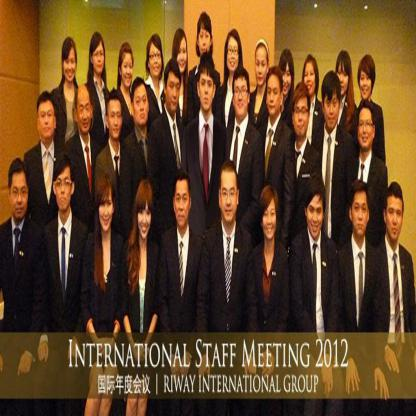face: (222, 177, 238, 223), (12, 176, 29, 219), (308, 197, 324, 240), (353, 194, 369, 236), (387, 198, 403, 239), (57, 169, 71, 210), (325, 92, 340, 130), (176, 185, 190, 225), (99, 191, 113, 231), (234, 79, 249, 116), (138, 200, 152, 239), (200, 72, 214, 111), (263, 200, 277, 239), (295, 100, 309, 137), (267, 79, 281, 116), (78, 94, 91, 133), (135, 88, 149, 124), (40, 103, 55, 136), (167, 75, 181, 110), (359, 116, 373, 147), (110, 103, 122, 138), (256, 51, 268, 86), (304, 64, 316, 96), (150, 47, 163, 76), (65, 51, 77, 82), (337, 65, 349, 96), (123, 54, 134, 87), (177, 40, 188, 72), (93, 44, 105, 73), (200, 29, 212, 58), (360, 71, 372, 100), (227, 43, 239, 71), (280, 66, 292, 94)
